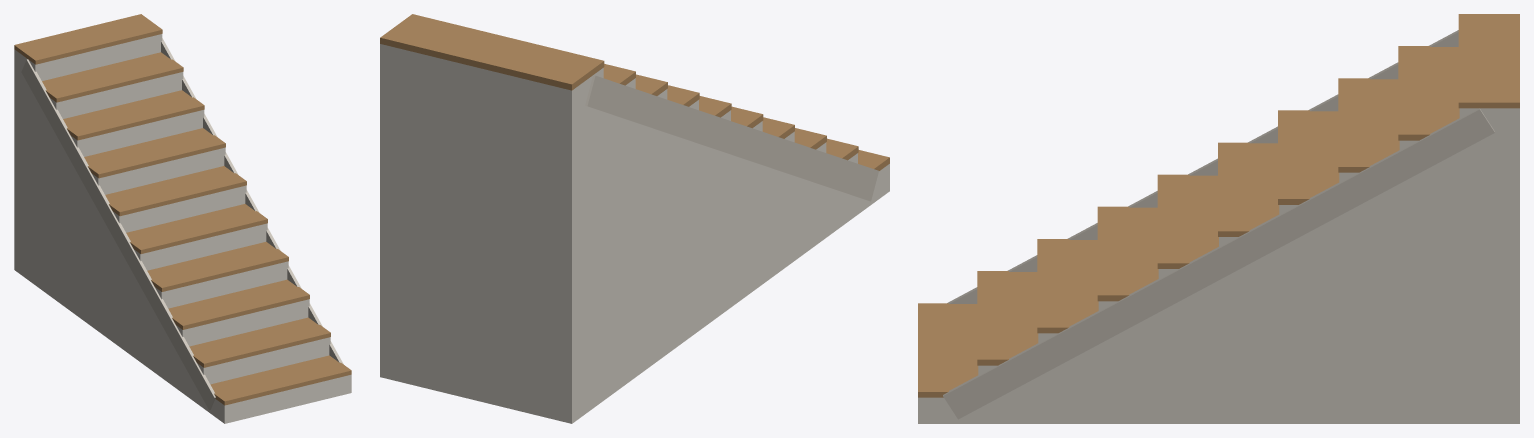
File: stairs.glb
3 views of the same model, side by side, from view 1: azimuth 30°, elevation 25°; view 2: azimuth 150°, elevation 25°; view 3: azimuth 270°, elevation 25° (orthographic). The views are drawn at different scales.
Parts seen in each view (by area): view 1: material-0-body, material-1-top, material-3-panel; view 2: material-0-body, material-1-top, material-3-panel; view 3: material-0-body, material-1-top, material-3-panel.
Boxes of the visible parts, left/top/right/bottom form: material-0-body: left=14, top=34, right=351, bottom=423; material-1-top: left=14, top=14, right=351, bottom=405; material-3-panel: left=21, top=38, right=343, bottom=410; material-0-body: left=380, top=44, right=889, bottom=423; material-1-top: left=380, top=14, right=889, bottom=170; material-3-panel: left=585, top=75, right=878, bottom=201; material-0-body: left=918, top=108, right=1519, bottom=423; material-1-top: left=918, top=14, right=1519, bottom=397; material-3-panel: left=943, top=30, right=1494, bottom=419.
Size of the model in its own units: 1 by 1.65 by 2.8.
